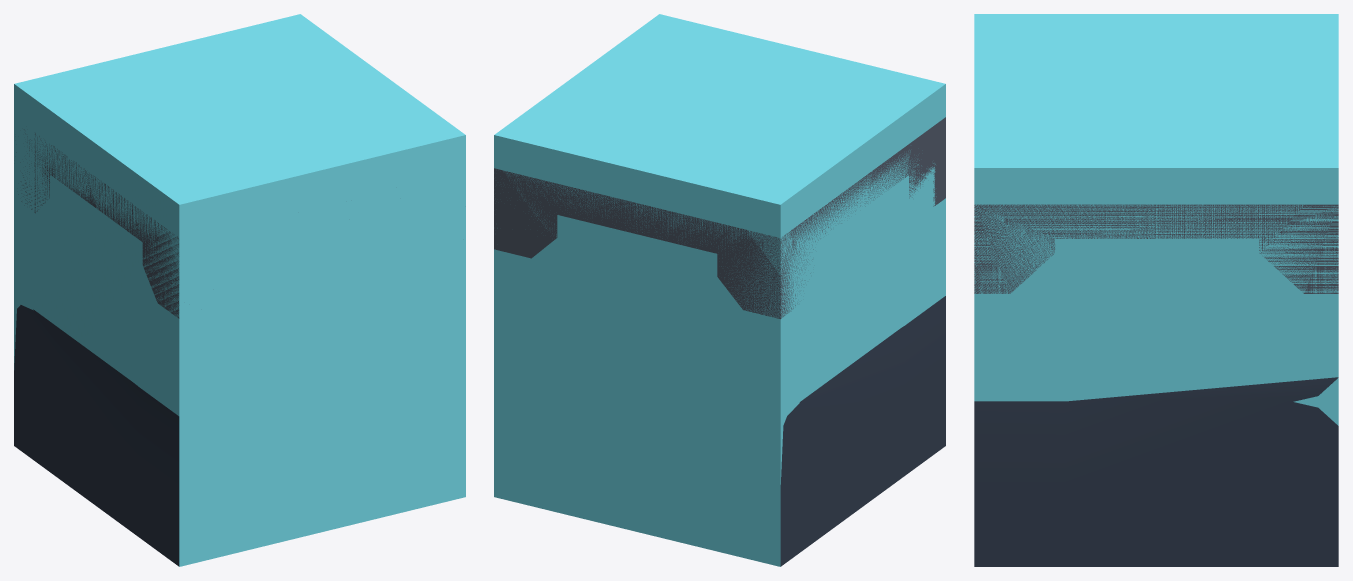
The model's file is PBOX22_FLA_02.FBX.
3 views of the same model, side by side, from view 1: azimuth 30°, elevation 25°; view 2: azimuth 150°, elevation 25°; view 3: azimuth 270°, elevation 25° (orthographic). The views are drawn at different scales.
Parts seen in each view (by area): view 1: PBOX22_FLA_02, PBOX22_SUB_TAB_FlA_003, PBOX22_SUB_FLA_004; view 2: PBOX22_FLA_02, PBOX22_SUB_TAB_FlA_003, PBOX22_SUB_FLA_004; view 3: PBOX22_FLA_02, PBOX22_SUB_TAB_FlA_003, PBOX22_SUB_FLA_004.
Part boxes in pixels (<box>): PBOX22_FLA_02: <box>14,14,465,566</box>; PBOX22_SUB_TAB_FlA_003: <box>14,305,179,566</box>; PBOX22_SUB_FLA_004: <box>16,129,179,318</box>; PBOX22_FLA_02: <box>494,14,945,566</box>; PBOX22_SUB_TAB_FlA_003: <box>780,296,945,566</box>; PBOX22_SUB_FLA_004: <box>494,117,945,319</box>; PBOX22_FLA_02: <box>974,14,1338,425</box>; PBOX22_SUB_TAB_FlA_003: <box>974,377,1338,566</box>; PBOX22_SUB_FLA_004: <box>974,204,1338,293</box>.
Size of the model in its own units: 12 by 14.5 by 12.
